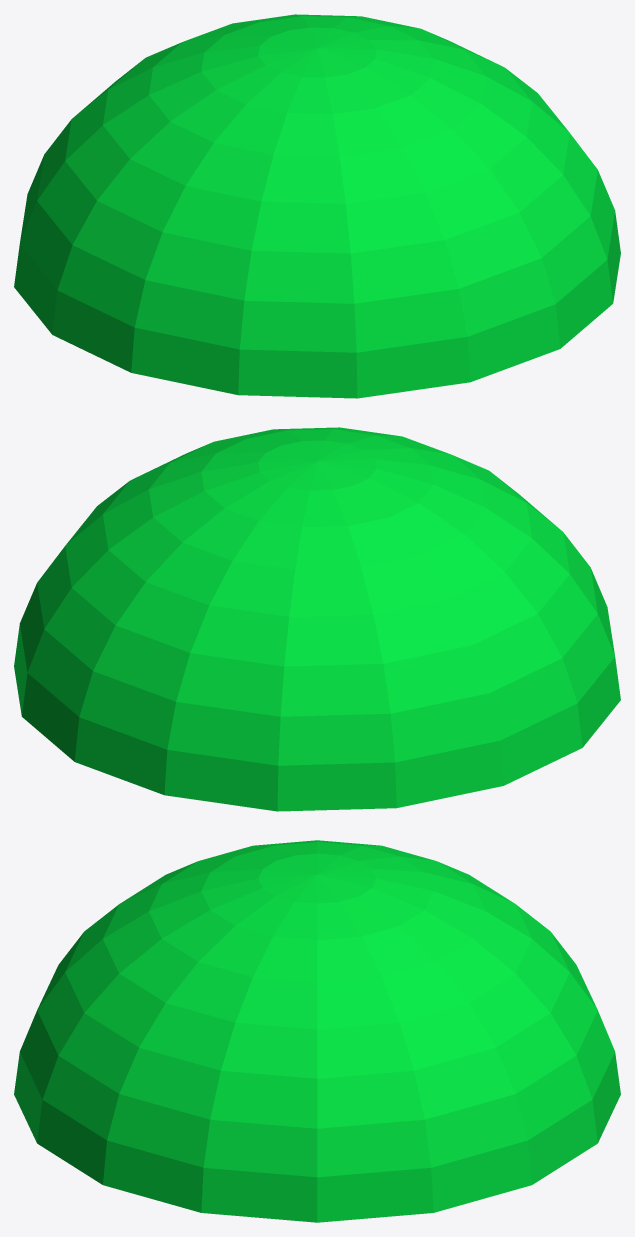
Rendered from Tree_Grass.glb.
The picture shows the model from 3 angles, top to bottom: view 1: azimuth 30°, elevation 25°; view 2: azimuth 150°, elevation 25°; view 3: azimuth 270°, elevation 25°; orthographic projection.
Visible parts, largest first — view 1: Tree_Grass; view 2: Tree_Grass; view 3: Tree_Grass.
Part boxes in pixels (<box>): Tree_Grass: <box>14,14,620,398</box>; Tree_Grass: <box>14,427,620,811</box>; Tree_Grass: <box>14,840,620,1222</box>.
Size of the model in its own units: 90 by 36 by 90.
